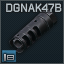AK 7.62x39 Lantac Dragon muzzle brake & compensator: (0, 0, 64, 64)
